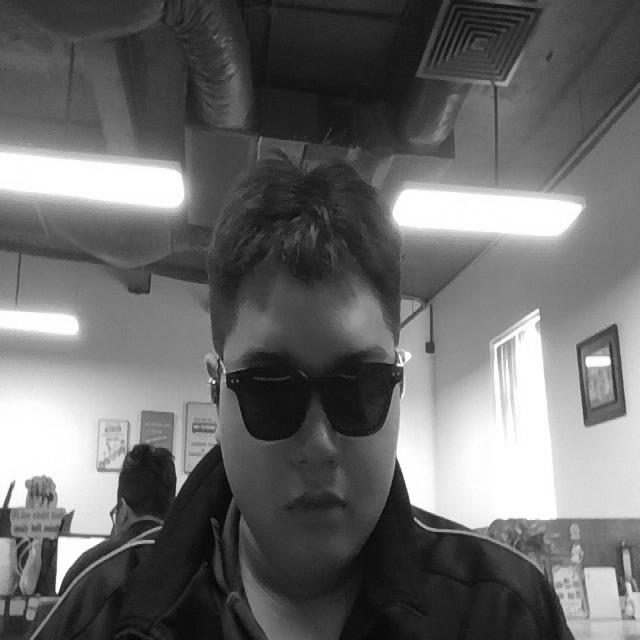fake: (211, 349, 403, 445)
real: (213, 147, 400, 579)
